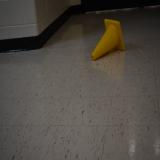cone: (91, 18, 125, 61)
